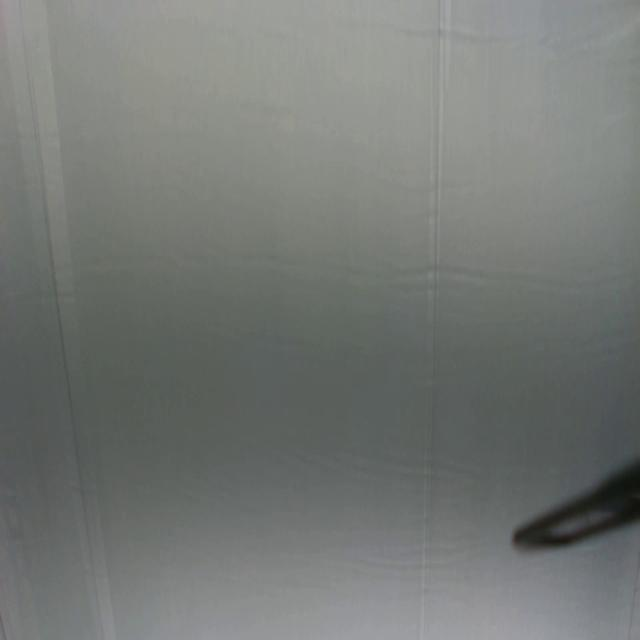crease: (0, 0, 116, 636), (420, 0, 450, 639)
